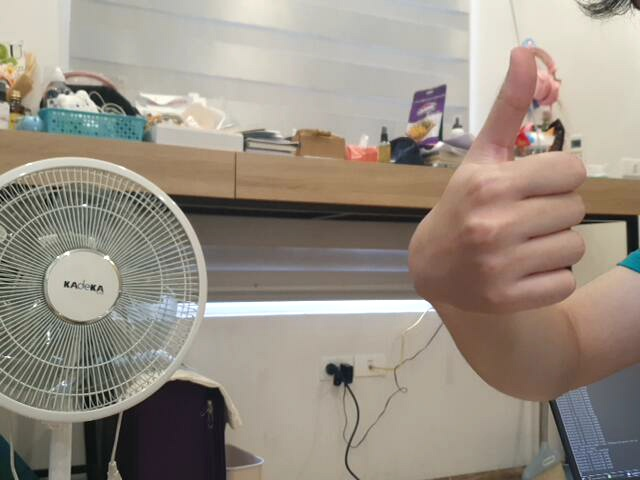ThumbsUp: (401, 43, 588, 317)
